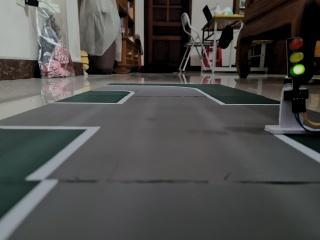green: (281, 30, 312, 86)
